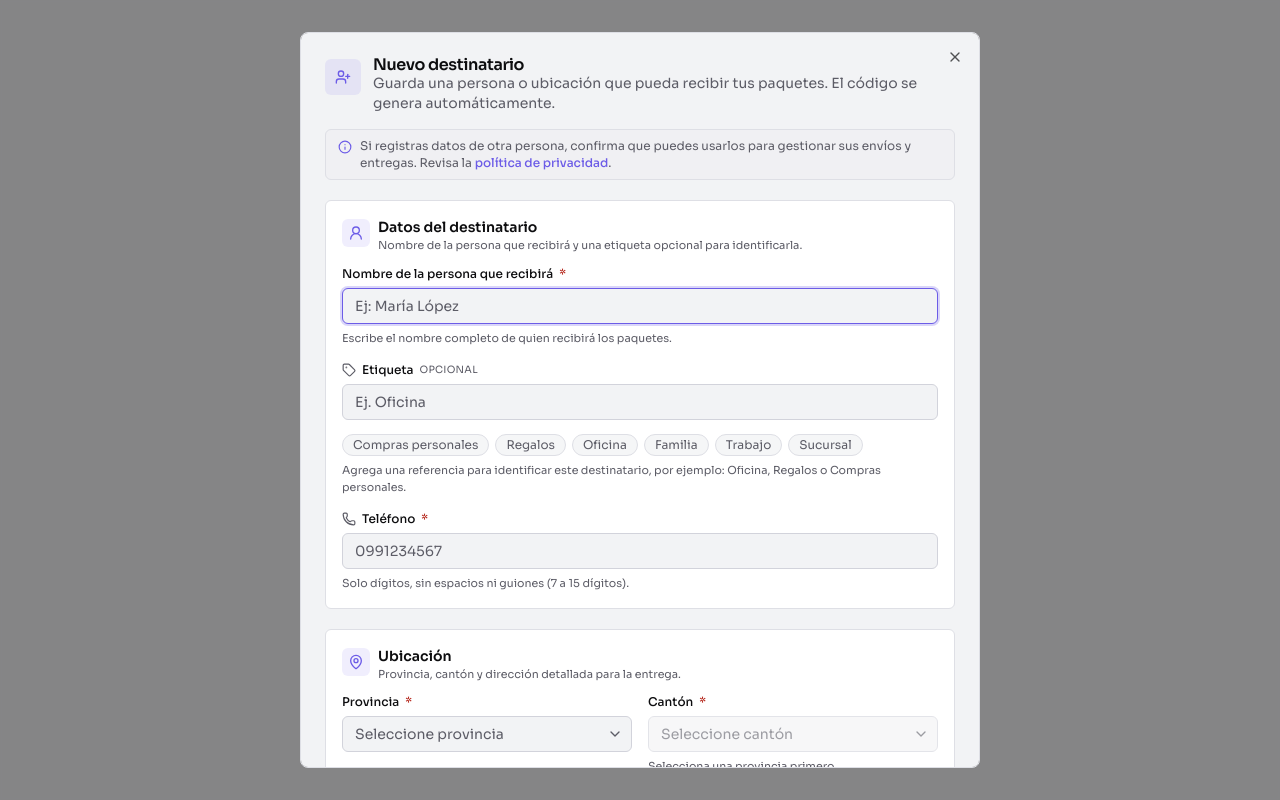
Test case: ConsignatarioForm · etiqueta (vista cliente) › la etiqueta es opcional, con ayuda, placeholder y sugerencias
Expected: the text "Etiqueta" is shown, [362,362,414,378]
Expected: the text "Opcional" is shown, [420,363,478,377]
Click the button "Compras personales".
click(416, 445)  # box [342,434,489,456]
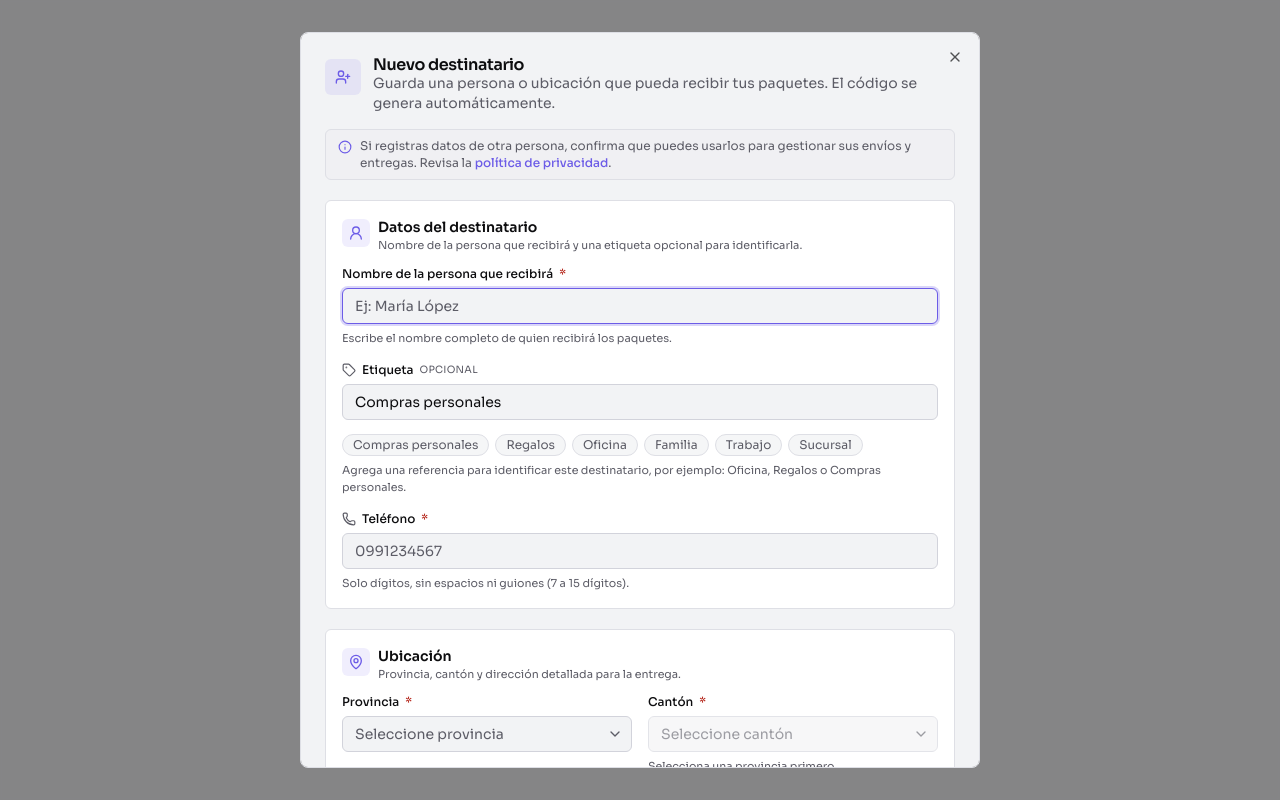
Expected: the field with placeholder "Ej. Oficina" holds "Compras personales", [342,384,938,420]
